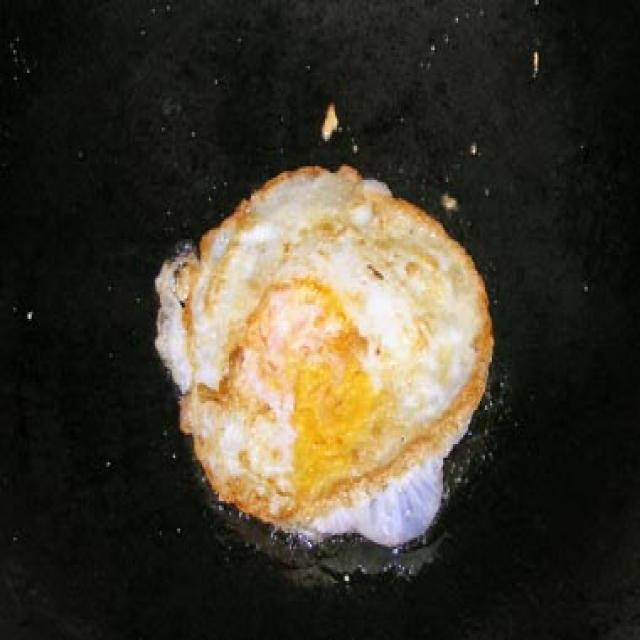鸡蛋料理: (152, 157, 494, 544)
